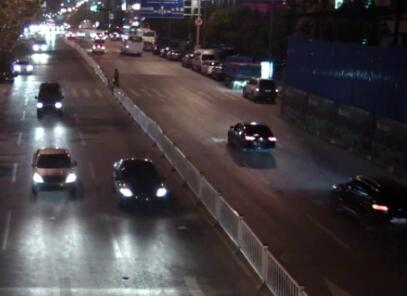bus: (127, 25, 156, 54), (119, 33, 144, 57), (90, 40, 105, 53), (120, 24, 129, 42)
car: (330, 174, 403, 231), (112, 155, 167, 208), (29, 146, 79, 198), (226, 120, 277, 154), (221, 52, 263, 87), (33, 80, 65, 120), (242, 76, 280, 103), (190, 48, 217, 71), (11, 57, 34, 77), (198, 58, 219, 75), (30, 38, 49, 53), (179, 51, 192, 66), (165, 46, 178, 59), (92, 30, 107, 41), (108, 28, 120, 41), (74, 29, 85, 39), (64, 30, 75, 39), (159, 47, 168, 56)
